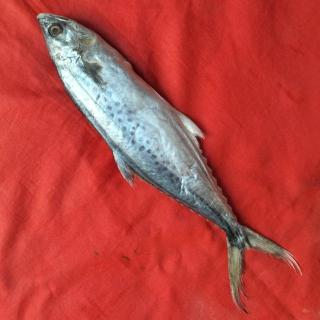Ikan: (31, 9, 299, 309)
